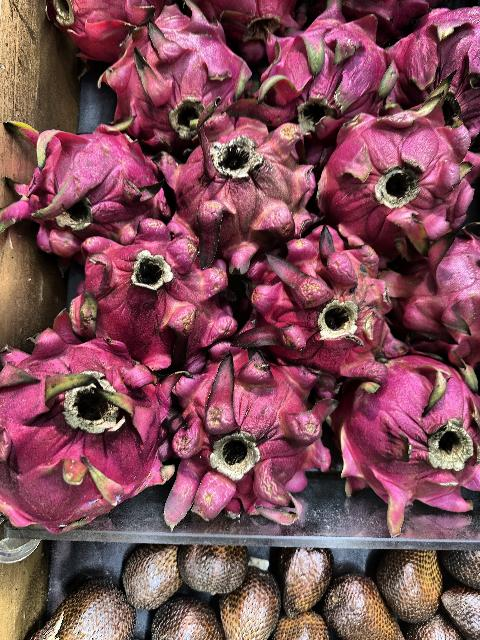buah-naga-matang: (0, 334, 178, 528), (332, 349, 480, 529), (173, 357, 327, 528), (67, 227, 242, 375), (8, 106, 174, 256), (326, 109, 480, 258), (161, 119, 315, 257), (239, 240, 400, 372), (103, 15, 247, 135), (259, 20, 393, 136), (398, 0, 480, 130)
